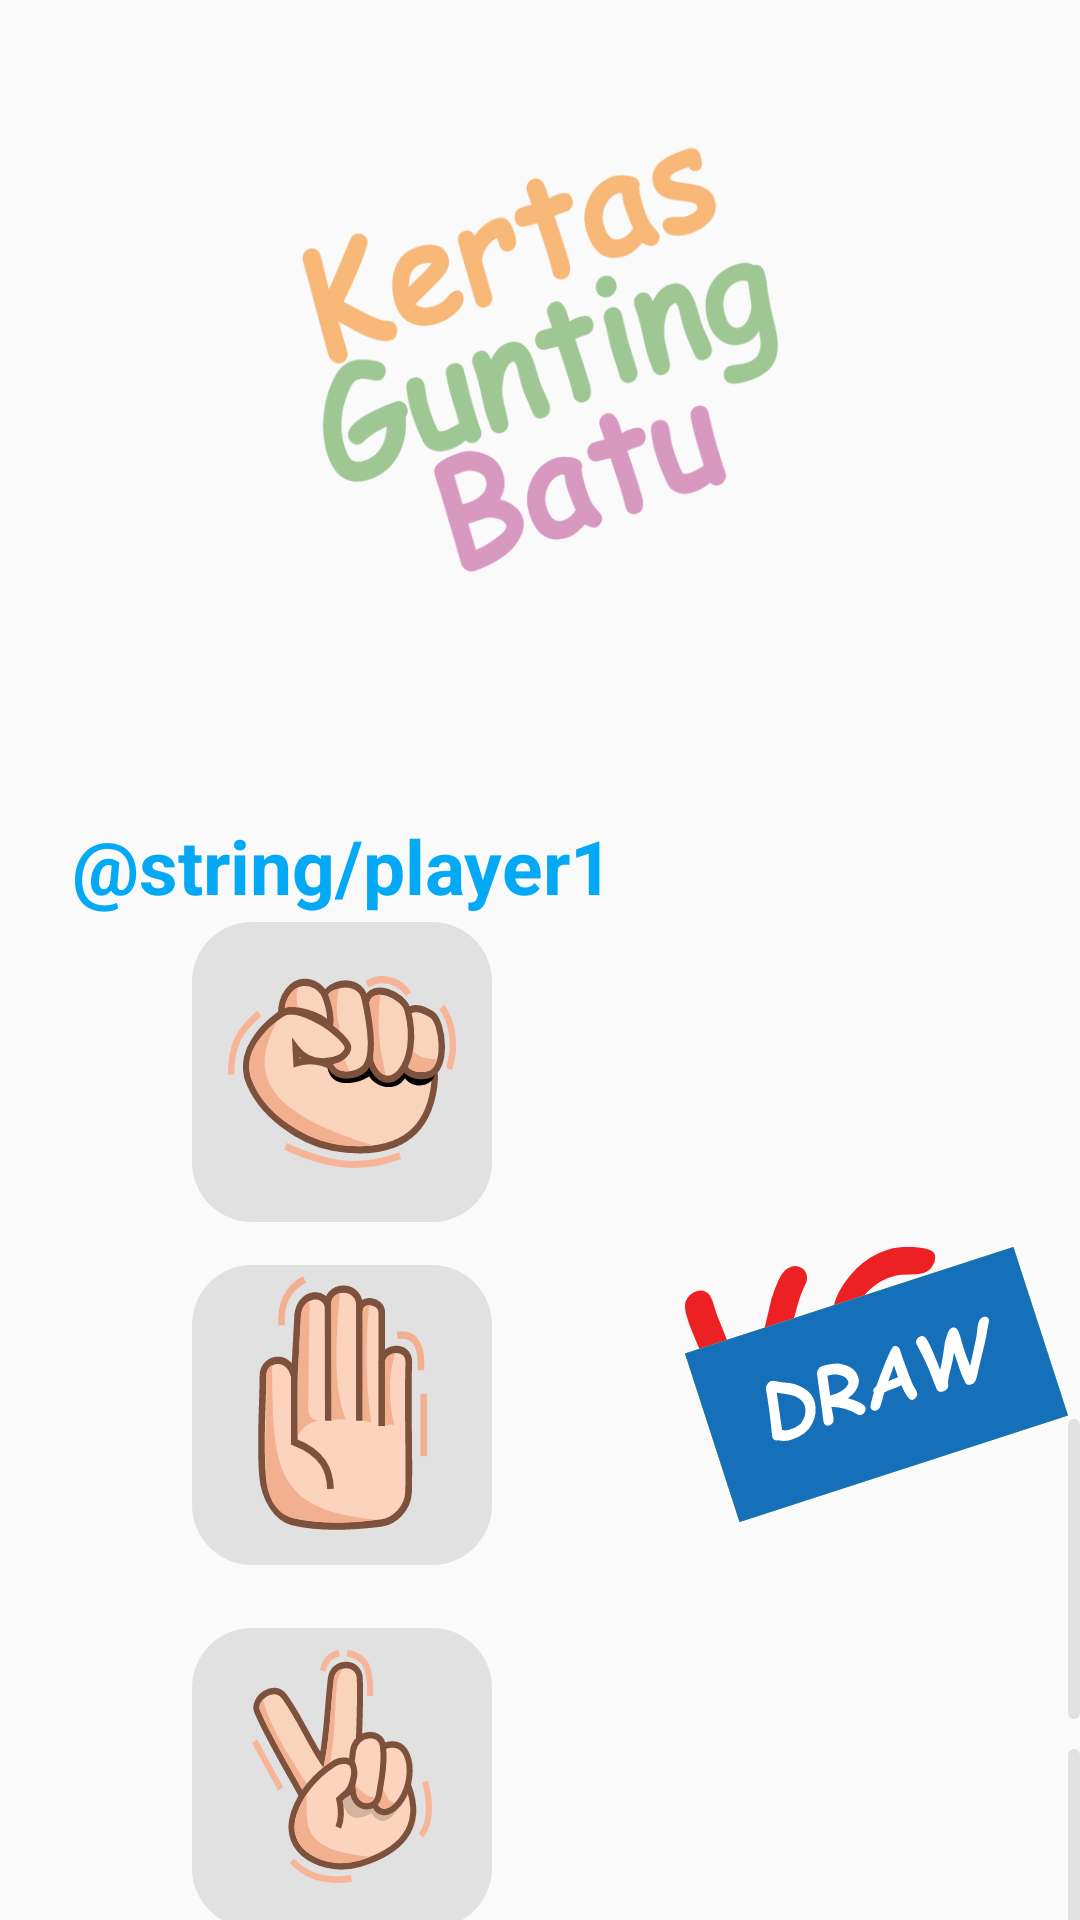

Locate icon controls on the screen. Image size 1080px x 1920px, boxes as BBox(x1, y1, x2, y2).
batu but: BBox(228, 976, 456, 1168)
paper but: BBox(258, 1276, 427, 1530)
